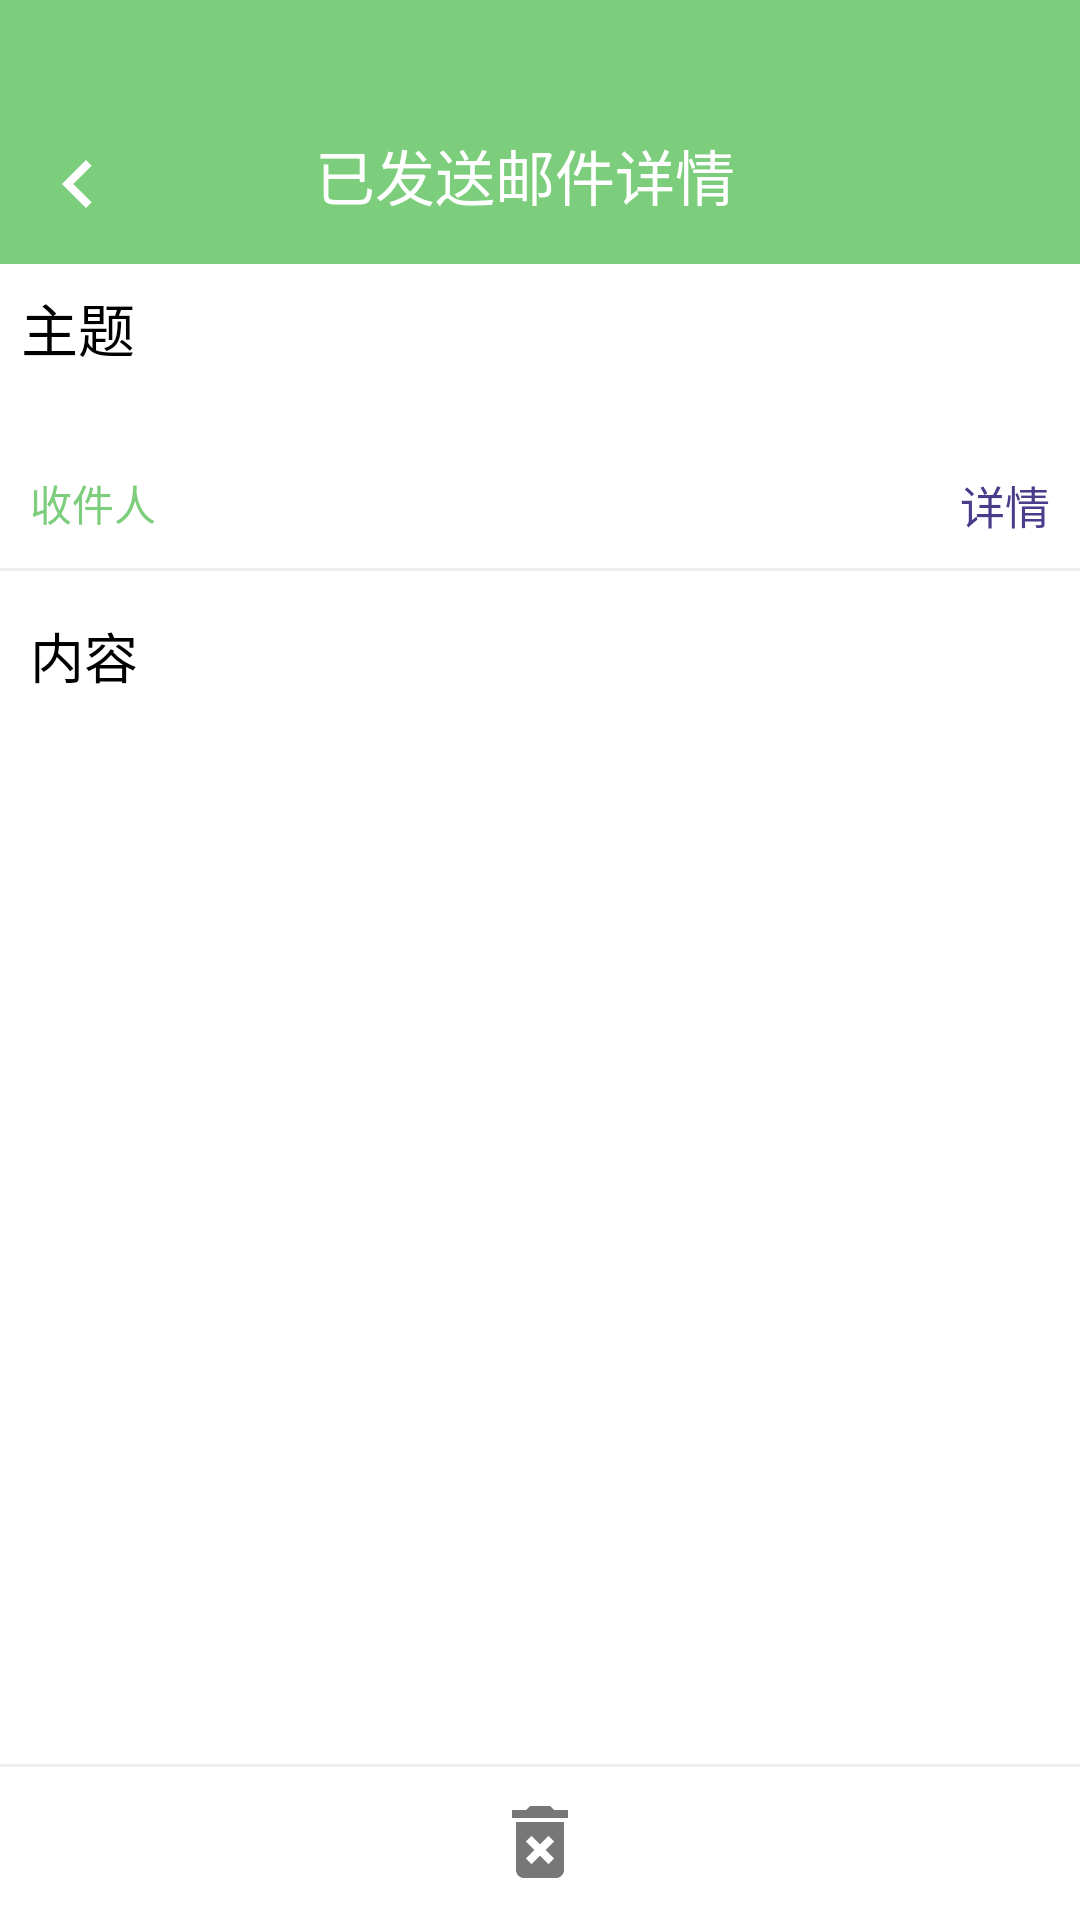

Screen size 1080px x 1920px. Icon name, then its box in pixels as (x1, y1, x2, y2):
delete forever: (512, 1806, 568, 1878)
keyboard arrow left: (62, 160, 92, 208)
